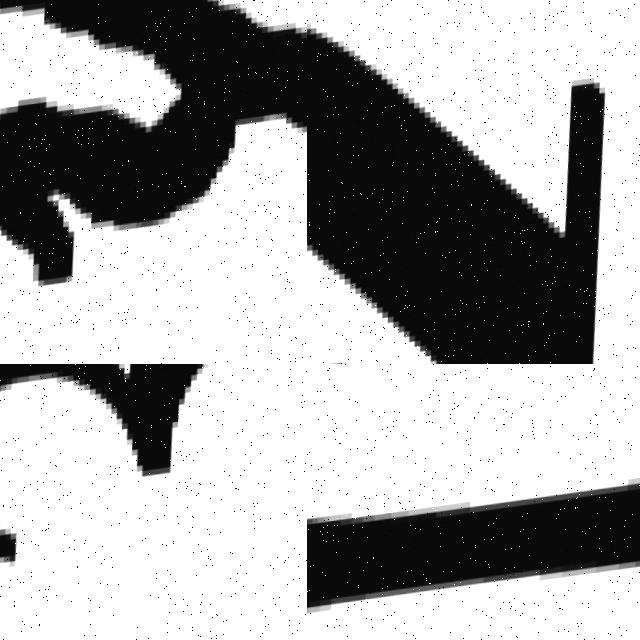1: (307, 373, 640, 640)
2: (307, 0, 640, 364)
3: (0, 364, 307, 618)
Y: (0, 0, 307, 364)
